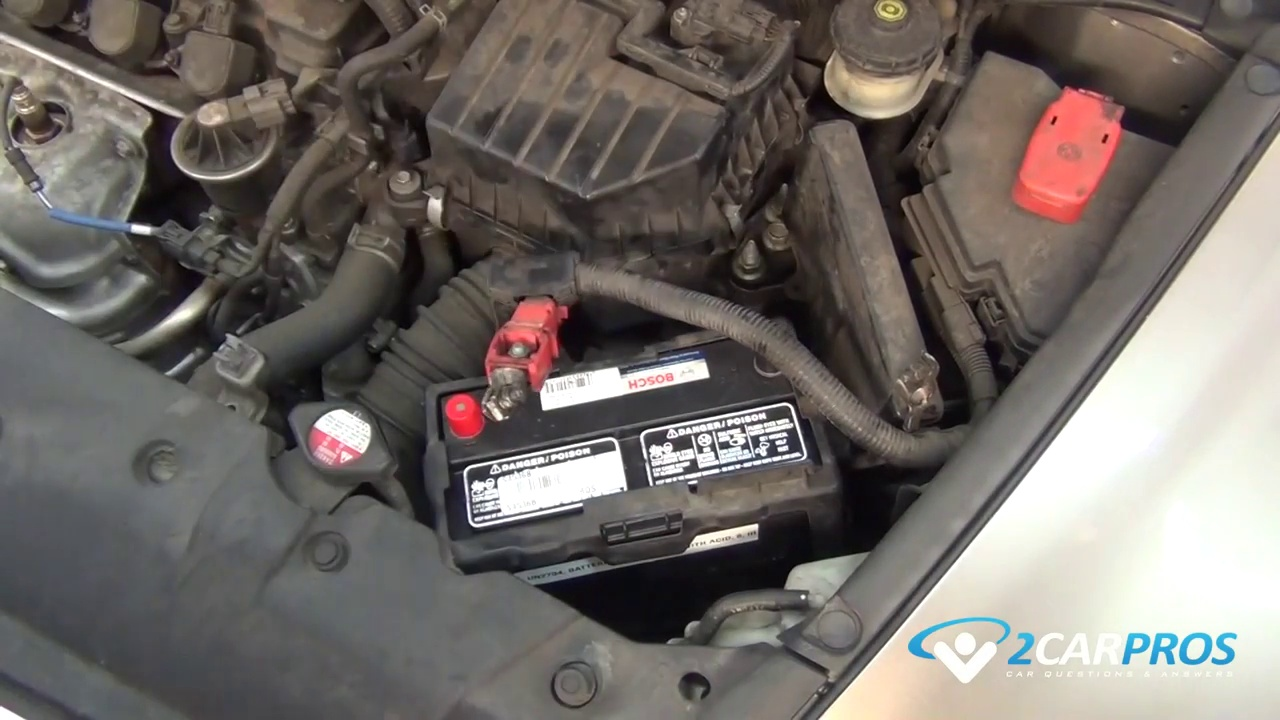battery: (421, 292, 845, 588)
pos_disconnected: (435, 299, 559, 460)
